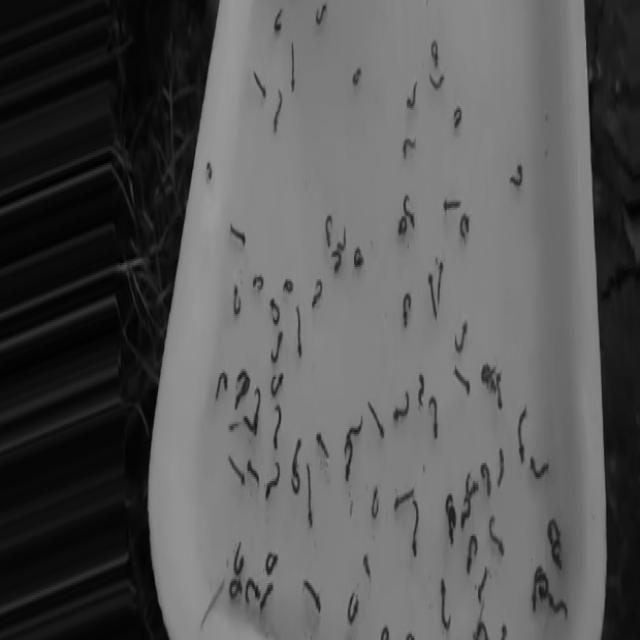larvas: (339, 441, 359, 488), (532, 558, 553, 602), (543, 508, 564, 551), (233, 363, 251, 410), (547, 529, 567, 571), (478, 359, 500, 397), (473, 619, 512, 640), (235, 365, 252, 412), (493, 370, 507, 417), (344, 411, 365, 442), (288, 427, 303, 470), (548, 592, 570, 621), (461, 480, 483, 506), (367, 402, 383, 436), (489, 518, 503, 554), (477, 569, 487, 618), (459, 501, 473, 536), (303, 581, 319, 611), (265, 463, 279, 497), (291, 462, 301, 509), (253, 387, 263, 434), (441, 579, 450, 628), (394, 391, 409, 420), (453, 367, 469, 393), (228, 457, 244, 483), (528, 582, 539, 619), (394, 487, 413, 508), (270, 330, 282, 363), (518, 406, 525, 461), (444, 489, 458, 516), (378, 617, 394, 640), (530, 457, 548, 477), (468, 534, 477, 573), (241, 409, 254, 436), (448, 513, 458, 548), (455, 322, 467, 351), (347, 593, 358, 624), (260, 583, 273, 609), (412, 499, 418, 554), (233, 542, 243, 575), (429, 273, 436, 318), (429, 397, 437, 436), (403, 198, 414, 226), (274, 92, 282, 130), (247, 459, 258, 485), (246, 579, 259, 601), (230, 224, 245, 243), (274, 408, 281, 448), (317, 432, 328, 457), (312, 279, 322, 306), (270, 375, 283, 395), (216, 373, 226, 399), (333, 251, 343, 277), (403, 294, 411, 326), (480, 463, 488, 495), (255, 71, 265, 96), (339, 224, 348, 251), (270, 298, 279, 324), (233, 285, 241, 314), (266, 554, 277, 575), (463, 470, 472, 495), (230, 579, 242, 597), (230, 416, 239, 440), (460, 218, 469, 241), (438, 263, 443, 304), (296, 306, 300, 357), (316, 4, 326, 24), (511, 165, 521, 185), (372, 485, 378, 518), (430, 73, 443, 88), (407, 82, 415, 106), (430, 41, 438, 65), (308, 463, 311, 526), (404, 141, 415, 157), (363, 554, 370, 577), (453, 106, 461, 126), (444, 200, 460, 210), (326, 216, 331, 247), (418, 375, 423, 406), (275, 10, 282, 31), (291, 43, 294, 90), (499, 450, 503, 485), (353, 67, 361, 84), (354, 249, 362, 265), (398, 216, 405, 234), (253, 275, 262, 289), (405, 631, 417, 640), (207, 161, 212, 179), (284, 279, 292, 289)
